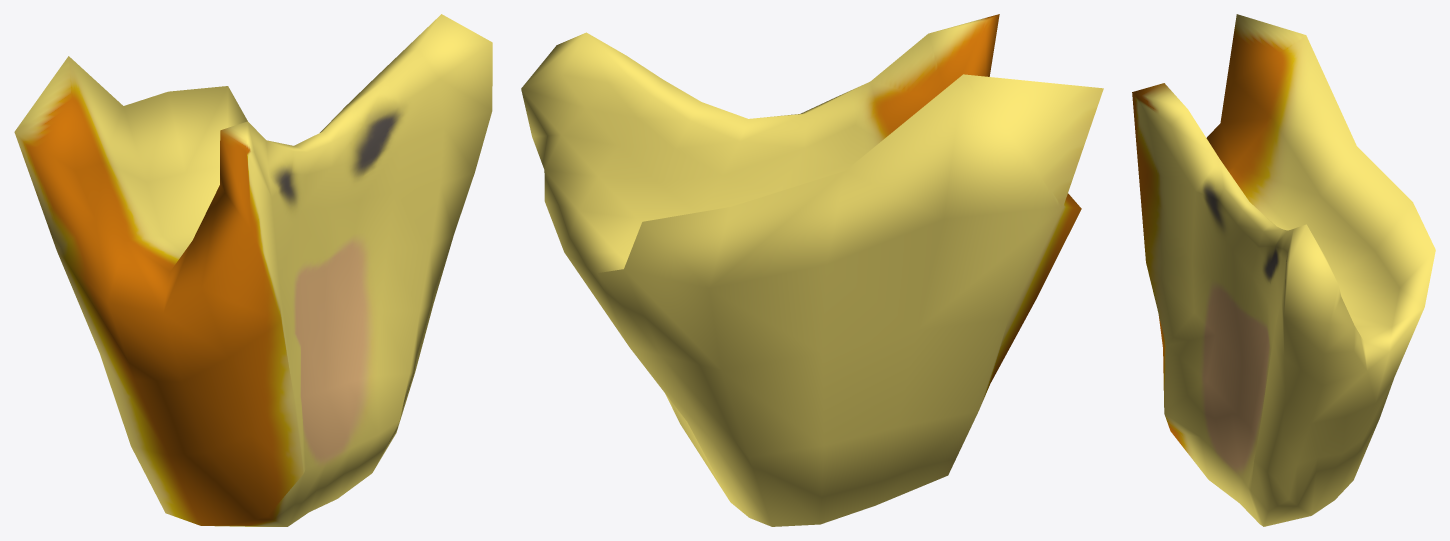
The model's file is frijol_amarillo.glb.
3 views of the same model, side by side, from view 1: azimuth 30°, elevation 25°; view 2: azimuth 150°, elevation 25°; view 3: azimuth 270°, elevation 25° (orthographic). The views are drawn at different scales.
Parts seen in each view (by area): view 1: Amarillo Low; view 2: Amarillo Low; view 3: Amarillo Low.
Boxes of the visible parts, x1=… form: Amarillo Low: x1=14, y1=14, x2=492, y2=526; Amarillo Low: x1=521, y1=14, x2=1103, y2=526; Amarillo Low: x1=1132, y1=14, x2=1435, y2=526.
Bounding box in the file's own units: 0.5532 × 0.4978 × 0.3457.
1 material, 1 textured.
